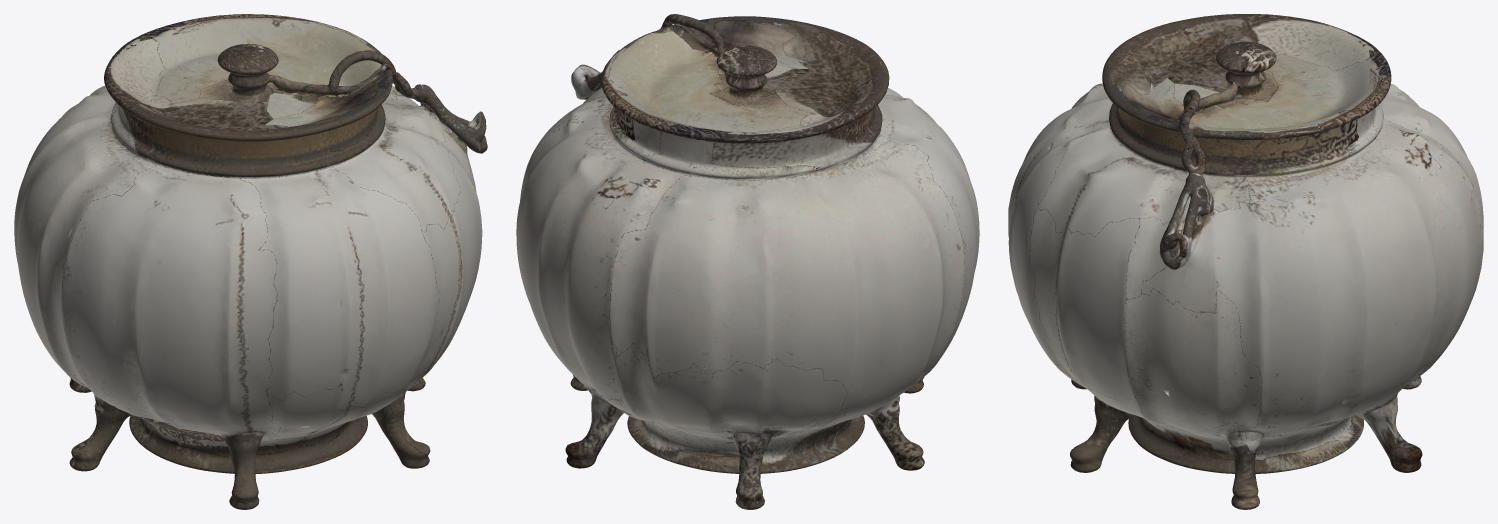
Rendered from texgen_sd_13w.glb.
The picture shows the model from 3 angles, left to right: view 1: azimuth 30°, elevation 25°; view 2: azimuth 150°, elevation 25°; view 3: azimuth 270°, elevation 25°; orthographic projection.
Parts seen in each view (by area): view 1: texture_v128_amrb_13w_cfg2_hdr; view 2: texture_v128_amrb_13w_cfg2_hdr; view 3: texture_v128_amrb_13w_cfg2_hdr.
Boxes of the visible parts, bbox=[...] form: texture_v128_amrb_13w_cfg2_hdr: bbox=[14, 14, 487, 509]; texture_v128_amrb_13w_cfg2_hdr: bbox=[516, 14, 979, 509]; texture_v128_amrb_13w_cfg2_hdr: bbox=[1008, 14, 1483, 509].
Bounding box in the file's own units: 2 × 1.76 × 2.
Materials: 1 (1 with a texture image).
